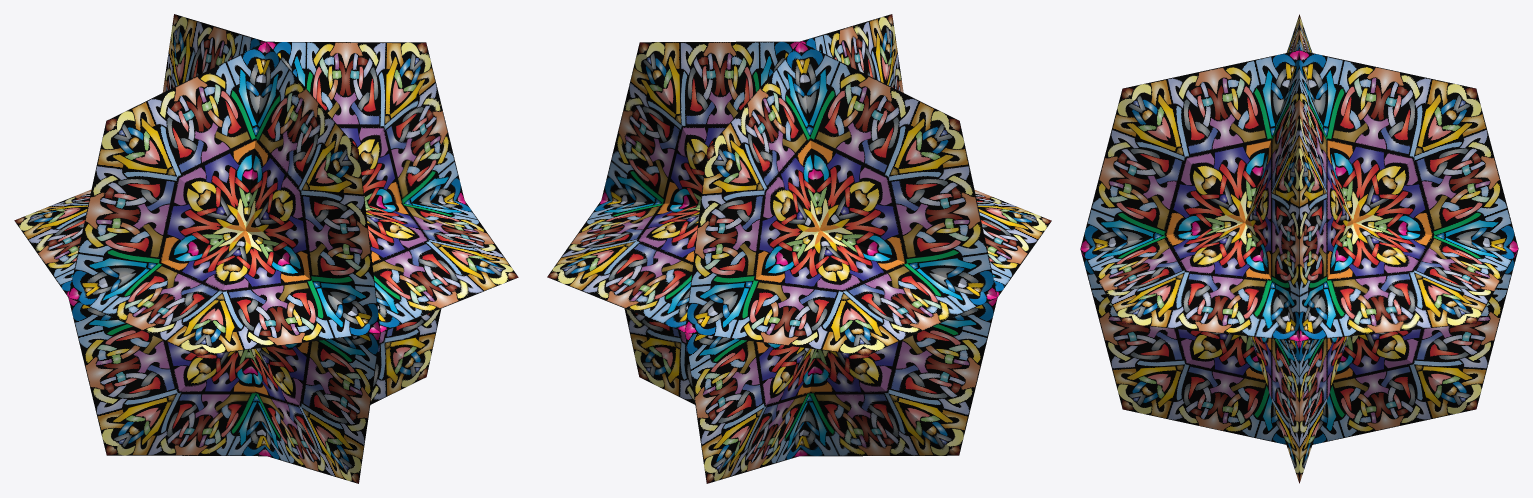
File: 33Mobius48a.obj
3 renders of one model, left to right at view 1: azimuth 30°, elevation 25°; view 2: azimuth 150°, elevation 25°; view 3: azimuth 270°, elevation 25°, orthographic. The views are drawn at different scales.
Size of the model in its own units: 2.41 by 2.41 by 2.41.
1 material, 1 textured.
